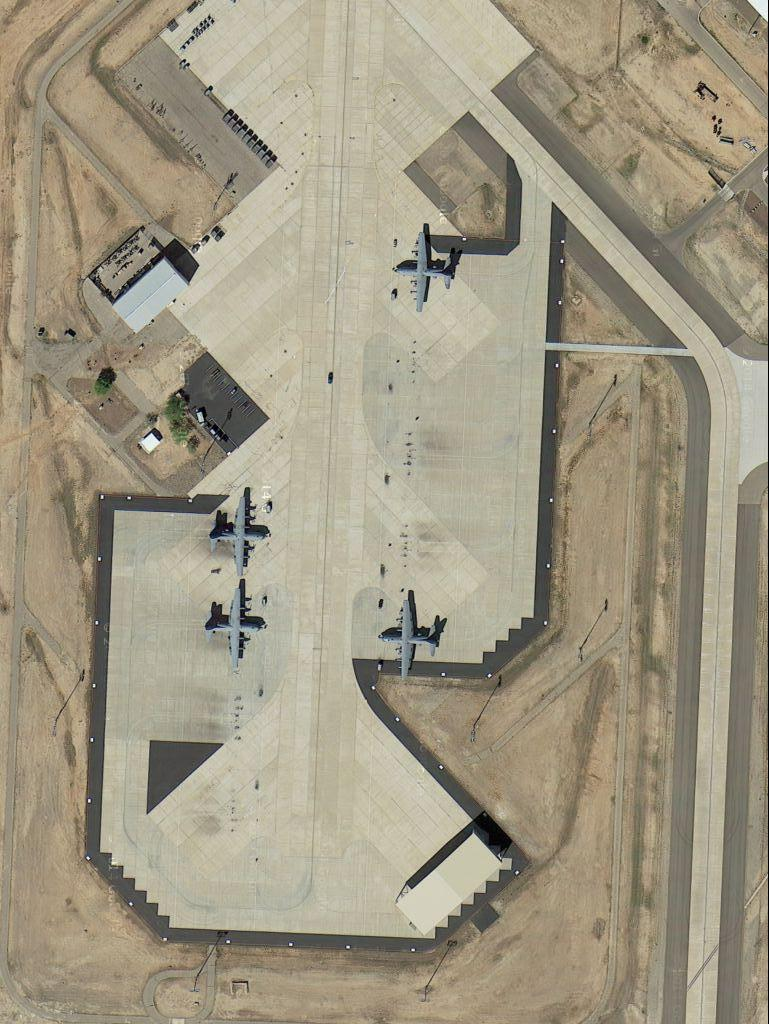C-130: (389, 223, 460, 314), (207, 489, 273, 577), (201, 581, 270, 665), (381, 596, 443, 682)
